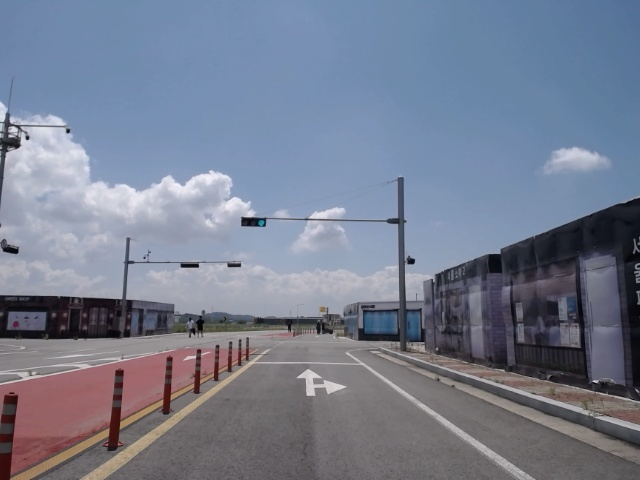green_3: (242, 219, 267, 226)
